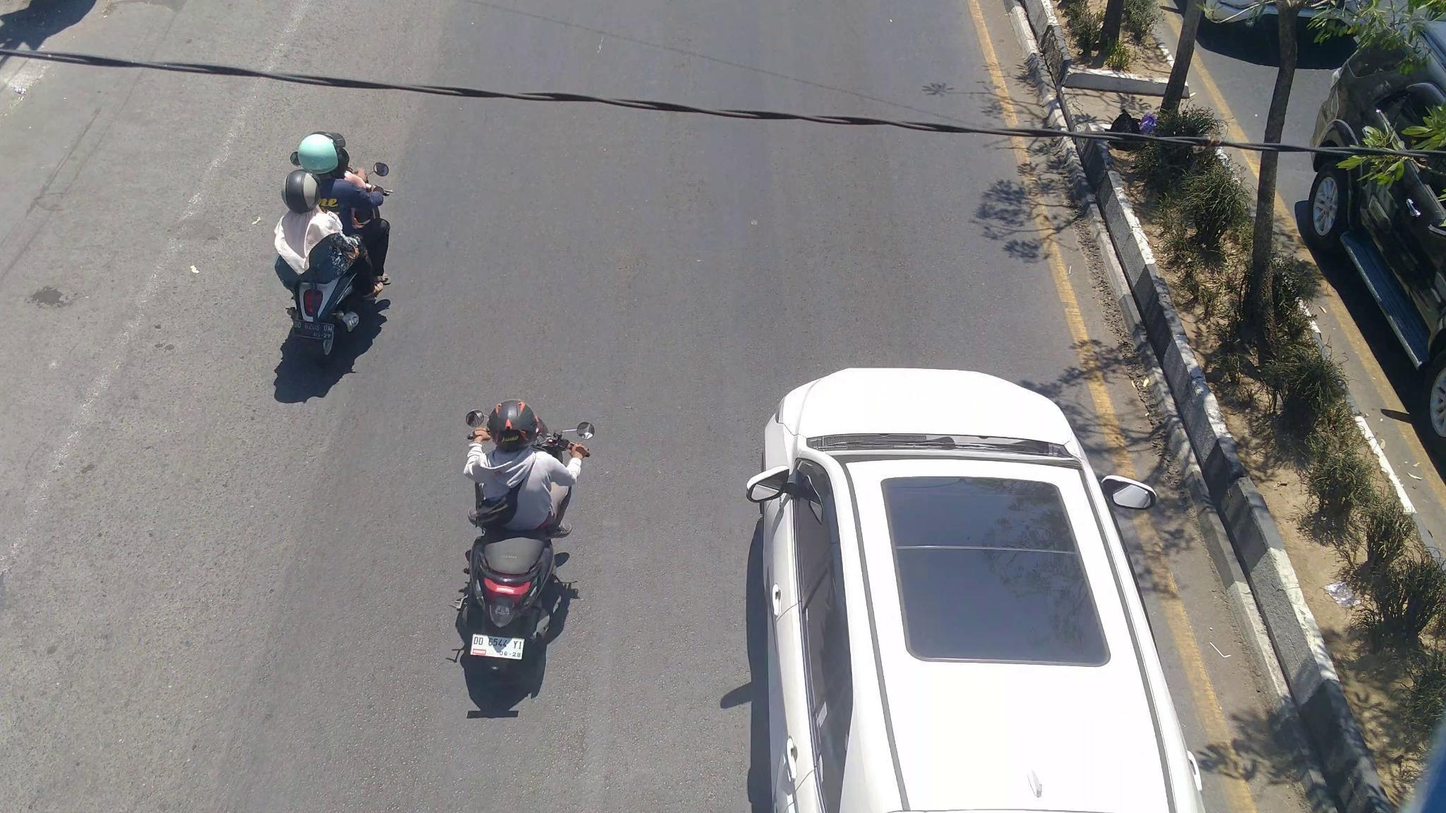Helmet: (484, 392, 543, 451), (295, 127, 352, 180), (278, 169, 324, 212)
bike: (456, 408, 594, 680), (282, 150, 391, 360)
number-plate: (467, 631, 527, 665), (290, 317, 334, 343)
rider: (464, 397, 586, 539), (289, 129, 397, 286), (275, 169, 378, 302)
